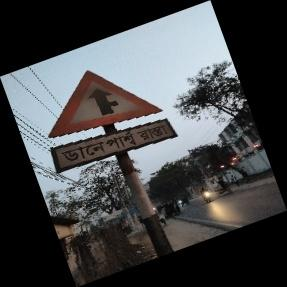Side-road-right: (47, 69, 173, 174)
